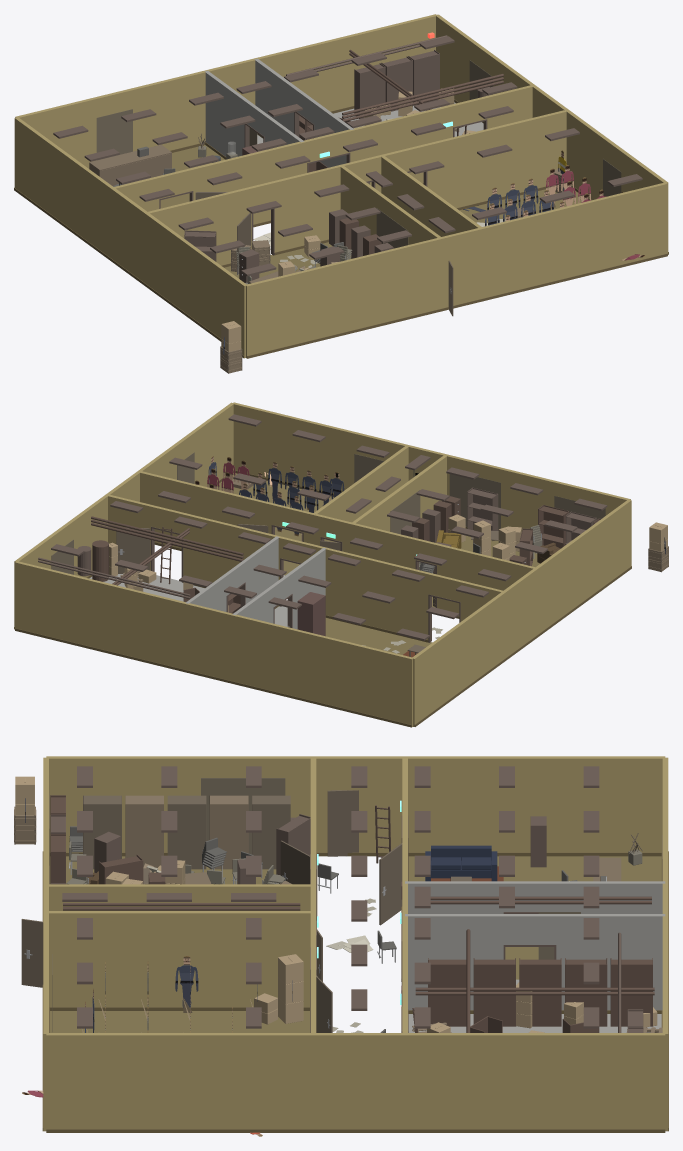
3 views of the same model, one above another, from view 1: azimuth 30°, elevation 25°; view 2: azimuth 150°, elevation 25°; view 3: azimuth 270°, elevation 25° (orthographic). The views are drawn at different scales.
Parts seen in each view (by area): view 1: W_South.001, W_CorrS.001, W_West.001, W_North.001, W_CorrN.001, W_East.001, W_LobbySpine.001, W_SpineUtil.001, Skirting.001, W_AlcStd.001, W_FurnAlc.001, L_desk.001 (+12 smaller); view 2: W_North.001, W_West.001, W_CorrN.001, W_South.001, W_CorrS.001, W_East.001, W_SpineUtil.001, W_AlcStd.001, Skirting.001, W_LobbySpine.001, W_FurnAlc.001, Floor_lobby.001 (+14 smaller); view 3: W_East.001, W_West.001, W_AlcStd.001, W_SpineUtil.001, W_LobbySpine.001, Skirting.001, Floor_standee.001, W_FurnAlc.001, Floor_lobby.001, F_wardW1.001, U_shelf1.001, F_wardW2.001 (+38 smaller).
Part boxes in pixels (x1,y1,x2,y2): W_South.001: [246, 183, 667, 358]; W_CorrS.001: [148, 110, 566, 265]; W_West.001: [14, 117, 247, 358]; W_North.001: [15, 14, 436, 168]; W_CorrN.001: [114, 85, 532, 224]; W_East.001: [435, 14, 668, 254]; W_LobbySpine.001: [205, 71, 304, 156]; W_SpineUtil.001: [254, 58, 353, 167]; Skirting.001: [14, 99, 668, 358]; W_AlcStd.001: [380, 155, 482, 236]; W_FurnAlc.001: [340, 165, 441, 244]; L_desk.001: [89, 144, 171, 185]; W_North.001: [15, 561, 412, 726]; W_West.001: [411, 499, 631, 726]; W_CorrN.001: [108, 495, 502, 639]; W_South.001: [233, 402, 630, 531]; W_CorrS.001: [140, 471, 534, 616]; W_East.001: [14, 402, 234, 629]; W_SpineUtil.001: [185, 536, 279, 611]; W_AlcStd.001: [313, 445, 409, 542]; Skirting.001: [14, 470, 631, 727]; W_LobbySpine.001: [232, 547, 326, 629]; W_FurnAlc.001: [351, 455, 447, 531]; Floor_lobby.001: [325, 618, 432, 726]; W_East.001: [46, 1033, 665, 1129]; W_West.001: [46, 756, 665, 852]; W_AlcStd.001: [46, 911, 313, 1007]; W_SpineUtil.001: [405, 914, 665, 1010]; W_LobbySpine.001: [405, 881, 665, 913]; Skirting.001: [42, 851, 668, 1132]; Floor_standee.001: [50, 1011, 309, 1032]; W_FurnAlc.001: [46, 884, 313, 910]; Floor_lobby.001: [408, 856, 661, 979]; F_wardW1.001: [125, 795, 163, 867]; U_shelf1.001: [473, 958, 515, 1026]; F_wardW2.001: [167, 795, 206, 869].
Bounding box in the file's own units: 20.29 × 3.23 × 18.62.
Materials: 37 (6 with a texture image).
